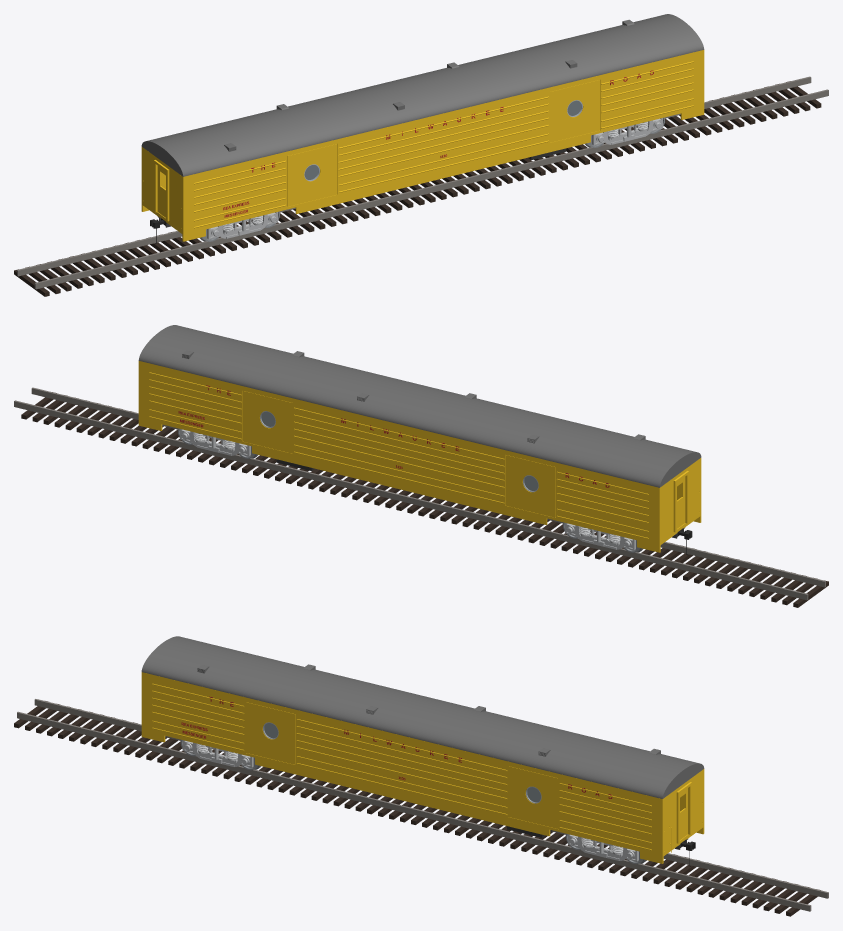
The model's file is MRCE_Express1130_G.glb.
3 views of the same model, one above another, from view 1: azimuth 30°, elevation 25°; view 2: azimuth 150°, elevation 25°; view 3: azimuth 330°, elevation 25° (orthographic).
Parts seen in each view (by area): view 1: orange, roof, ties, rails, trucks; view 2: orange, roof, ties, rails, trucks; view 3: orange, roof, ties, rails, trucks.
Boxes of the visible parts, x1,y1,x2,y2 form: orange: (141,50,704,241); roof: (141,14,704,176); ties: (14,81,821,296); rails: (17,76,828,289); trucks: (207,118,662,239); orange: (138,361,701,552); roof: (138,325,701,487); ties: (21,392,828,607); rails: (14,387,825,600); trucks: (180,429,635,550); orange: (141,672,704,863); roof: (141,636,704,798); ties: (14,701,820,916); rails: (17,699,828,911); trucks: (182,740,638,861).
Bounding box in the file's own units: 1.17 × 0.148 × 0.1069.
